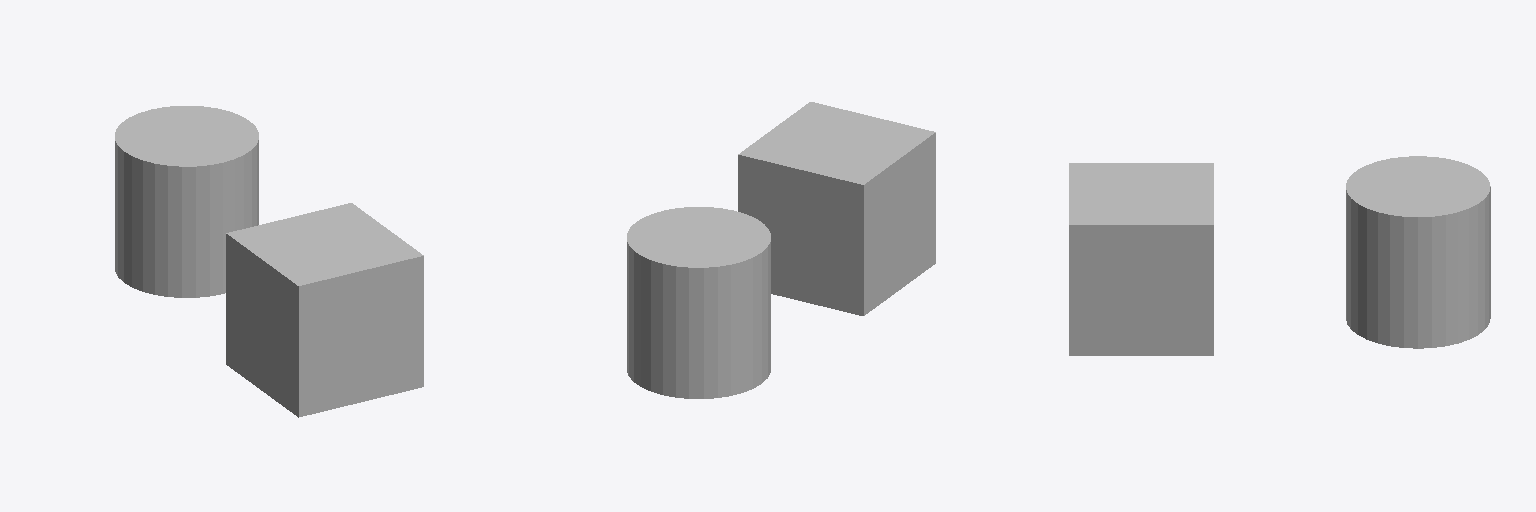
The model's file is blender0.obj.
3 views of the same model, side by side, from view 1: azimuth 30°, elevation 25°; view 2: azimuth 150°, elevation 25°; view 3: azimuth 270°, elevation 25° (orthographic).
Visible parts, largest first — view 1: Cube, Cylinder; view 2: Cube, Cylinder; view 3: Cube, Cylinder.
Part boxes in pixels (x1,y1,x2,y2): Cube: (226,203,423,417); Cylinder: (115,106,258,297); Cube: (738,102,935,315); Cylinder: (627,207,770,398); Cube: (1069,163,1213,355); Cylinder: (1346,156,1490,348).
Bounding box in the file's own units: 2 × 2.11 × 5.81.